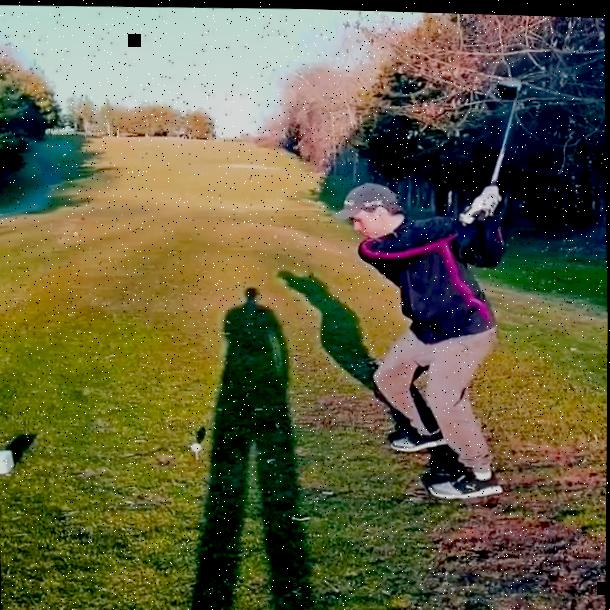GolfBall: (188, 440, 202, 450)
